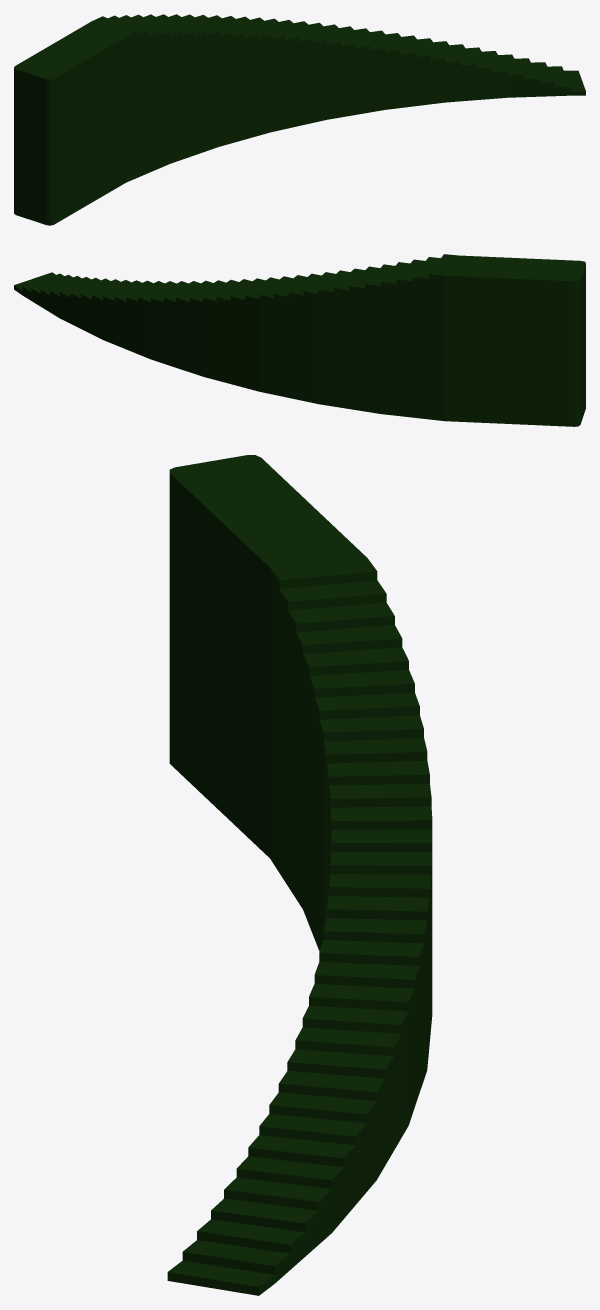
File: stairs3.fbx
The picture shows the model from 3 angles, top to bottom: view 1: azimuth 30°, elevation 25°; view 2: azimuth 150°, elevation 25°; view 3: azimuth 270°, elevation 25°; orthographic projection. The views are drawn at different scales.
Parts seen in each view (by area): view 1: stairs3; view 2: stairs3; view 3: stairs3.
Part boxes in pixels (x1,y1,x2,y2): stairs3: (14, 14, 585, 225); stairs3: (14, 254, 585, 426); stairs3: (167, 455, 432, 1295).
Size of the model in its own units: 19.92 by 4.91 by 4.05.
